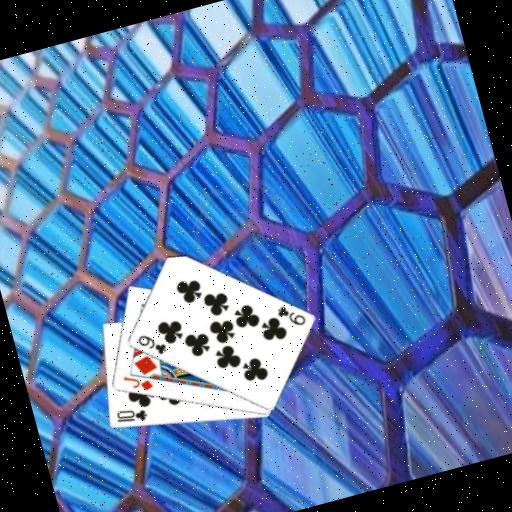10C: (111, 401, 150, 429)
9C: (272, 298, 308, 333), (132, 327, 169, 361)
JD: (118, 366, 155, 397)
